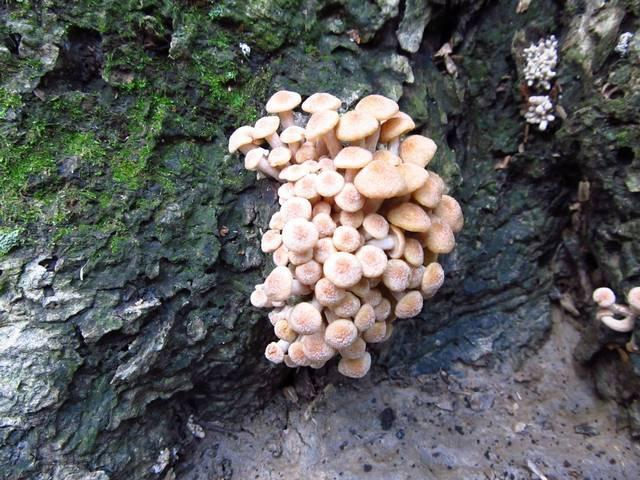Edible Mushroom: (227, 88, 464, 379)
